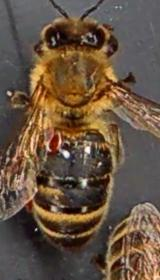varroa_mite: (44, 126, 63, 154)
